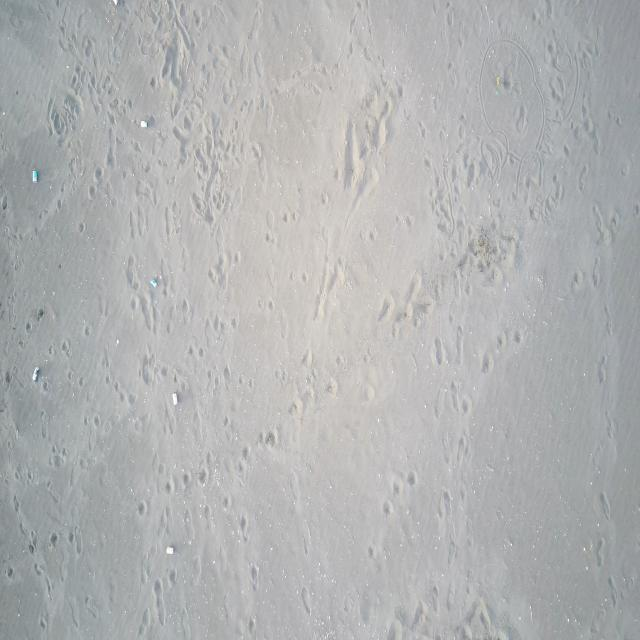tin-and-aluminum-cans: (32, 365, 40, 382), (172, 392, 179, 408), (139, 119, 149, 129), (32, 170, 39, 184), (150, 277, 158, 289), (166, 546, 174, 556), (113, 0, 119, 7)
